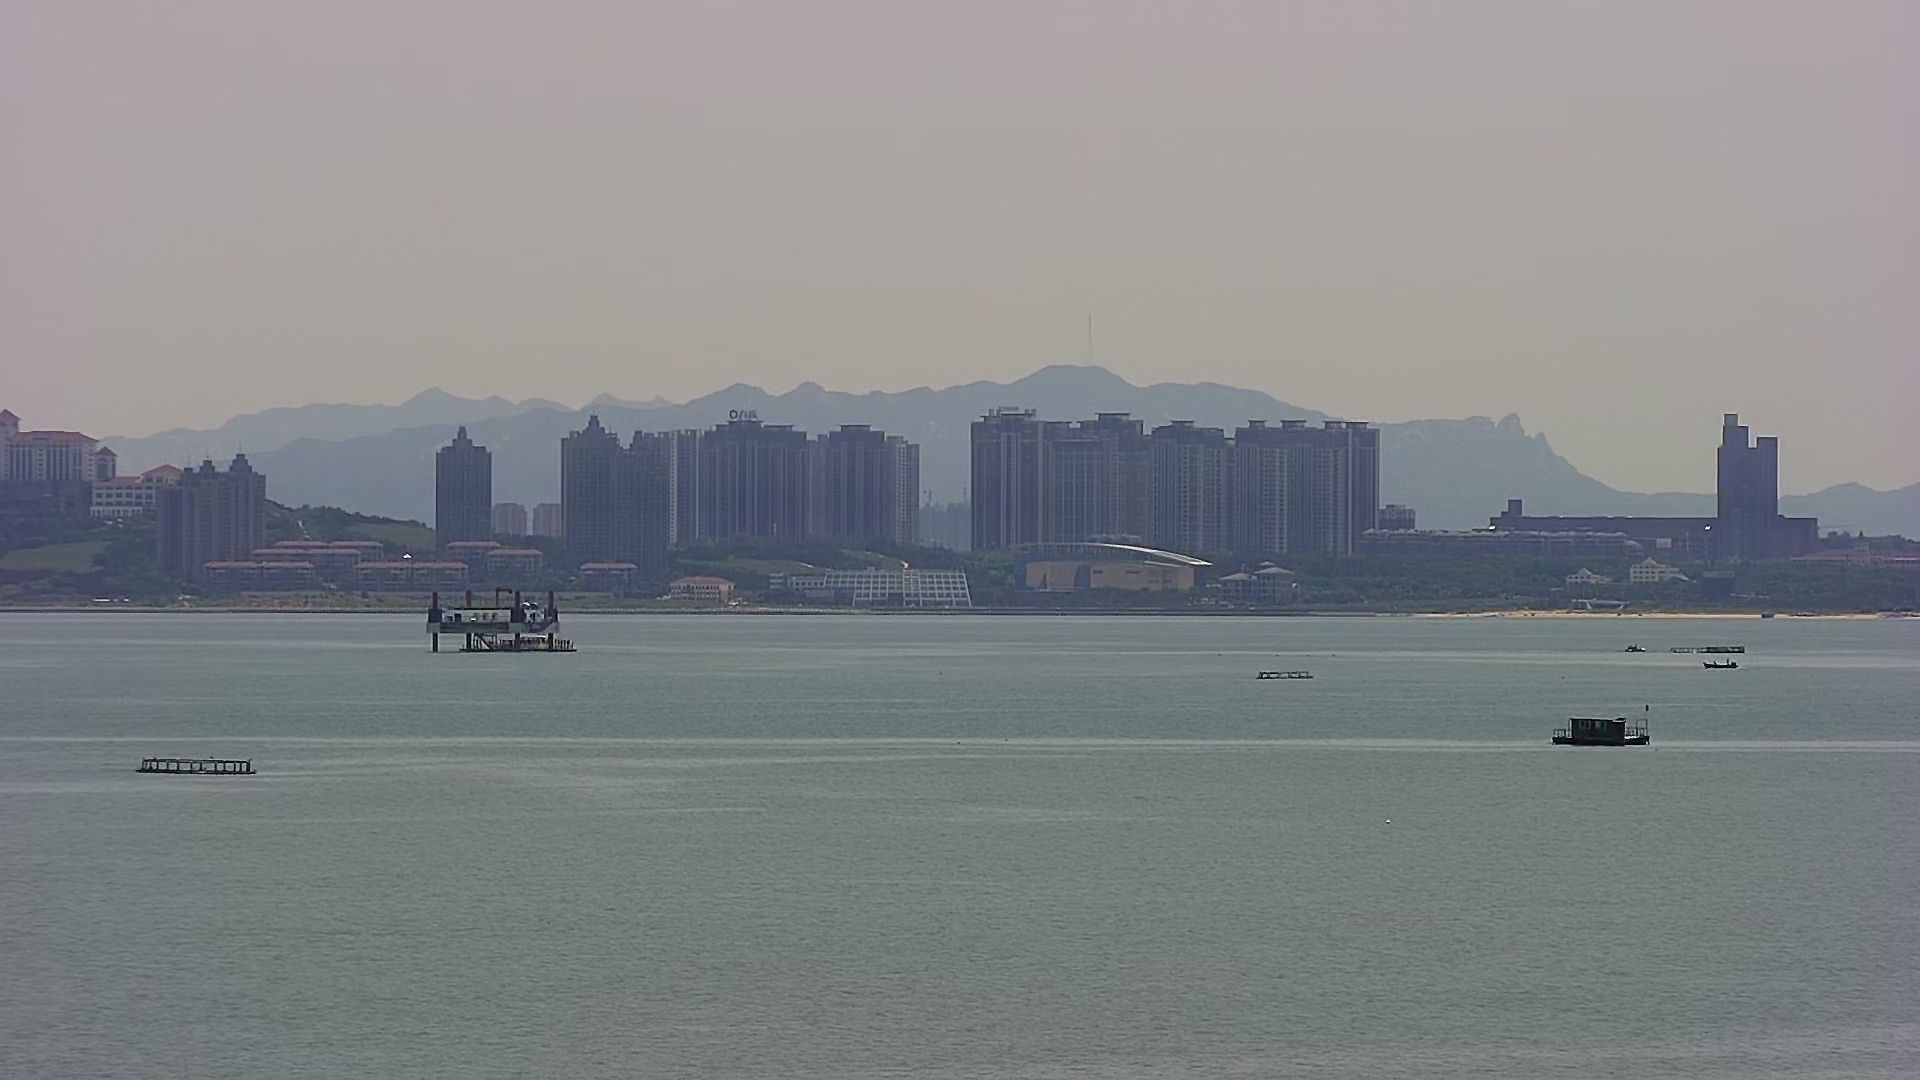platform: (421, 587, 580, 655), (1547, 709, 1655, 752), (133, 753, 262, 778)
